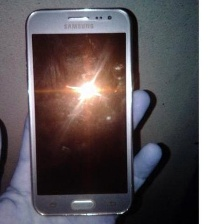phone: (19, 2, 137, 219)
